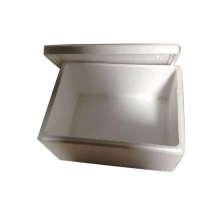foam_box: (30, 34, 194, 174)
